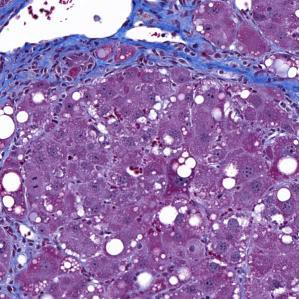fibrosis: (143, 7, 269, 84), (10, 36, 122, 94)
